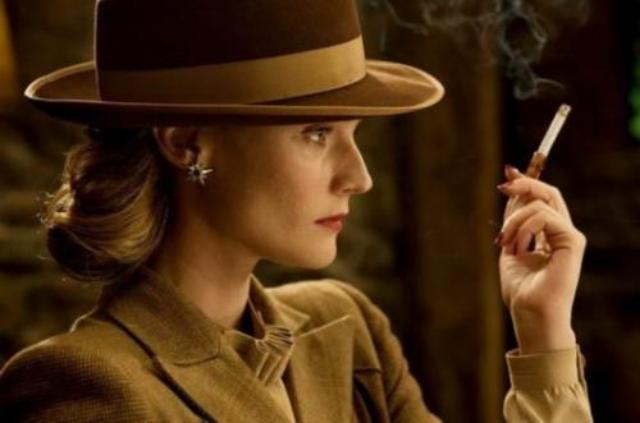SafeDriving: (285, 112, 345, 152)
Smoking: (525, 101, 571, 181)
